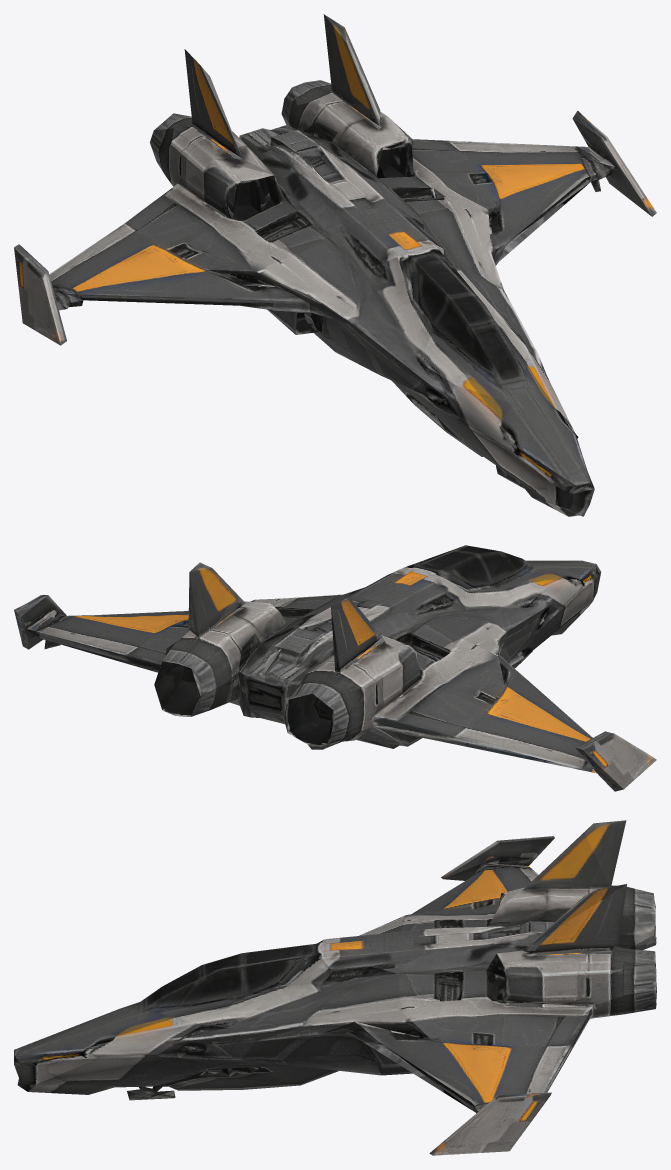
File: interceptor-low.glb
The picture shows the model from 3 angles, top to bottom: view 1: azimuth 30°, elevation 25°; view 2: azimuth 150°, elevation 25°; view 3: azimuth 270°, elevation 25°; orthographic projection. The views are drawn at different scales.
Visible parts, largest first — view 1: Low; view 2: Low; view 3: Low.
Boxes of the visible parts, x1,y1,x2,y2 form: Low: (14, 14, 656, 516); Low: (14, 545, 656, 791); Low: (14, 820, 656, 1155).
Size of the model in its own units: 1.71 by 0.7249 by 1.71.
1 material, 1 textured.
